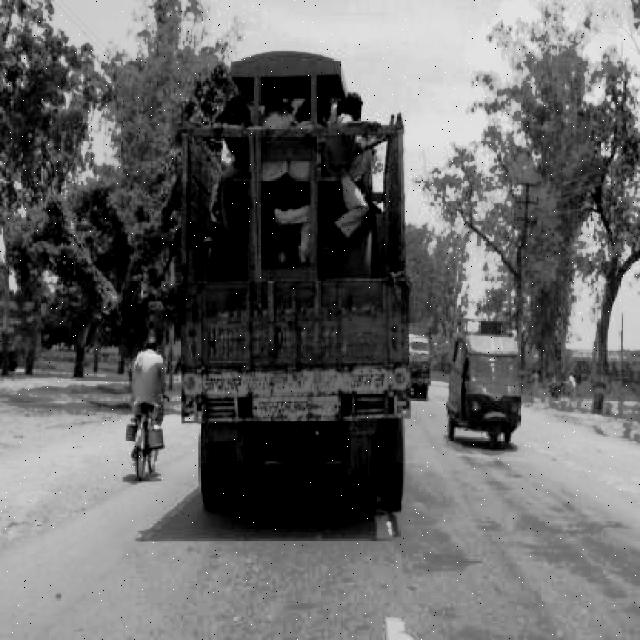HCV: (171, 72, 421, 524)
